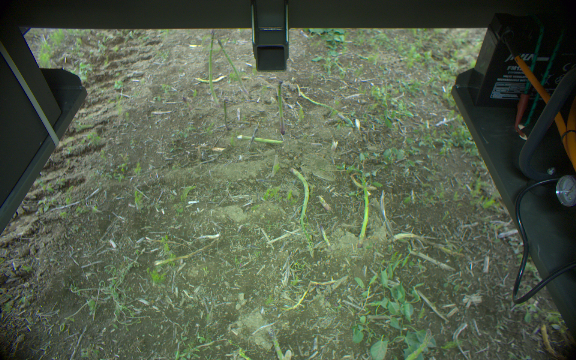aspa: (216, 37, 247, 97), (288, 166, 311, 227), (357, 173, 370, 241), (206, 28, 218, 101), (273, 80, 289, 134), (237, 131, 284, 148), (270, 329, 285, 360), (220, 98, 230, 130), (316, 194, 330, 213)
